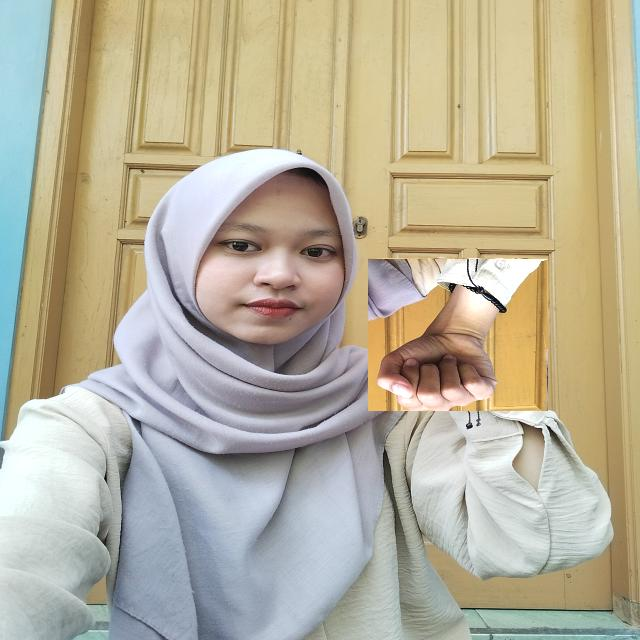baik: (368, 258, 548, 411)
